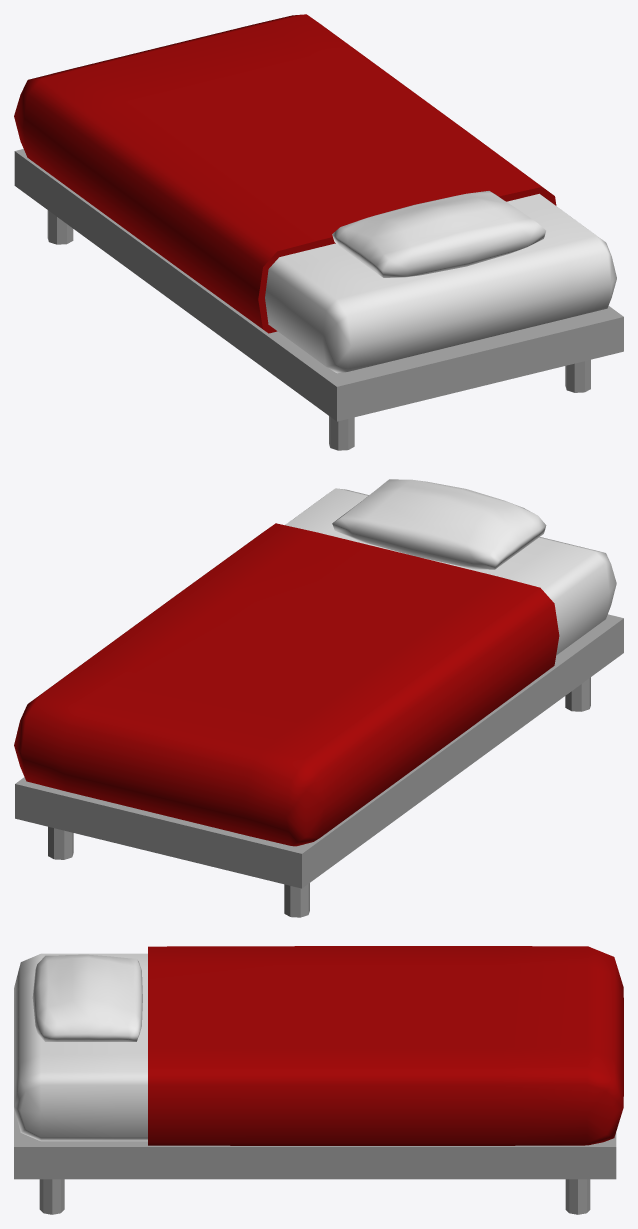
Rendered from bed.fbx.
The picture shows the model from 3 angles, top to bottom: view 1: azimuth 30°, elevation 25°; view 2: azimuth 150°, elevation 25°; view 3: azimuth 270°, elevation 25°; orthographic projection. The views are drawn at different scales.
Parts seen in each view (by area): view 1: quilt, mattress, bed_frame, pillow; view 2: quilt, bed_frame, pillow, mattress; view 3: quilt, bed_frame, mattress, pillow.
Part boxes in pixels (x1,y1,x2,y2): quilt: [14, 14, 556, 333]; mattress: [265, 193, 616, 373]; bed_frame: [14, 149, 623, 450]; pillow: [332, 191, 545, 277]; quilt: [14, 523, 559, 846]; bed_frame: [15, 614, 623, 917]; pillow: [332, 479, 546, 569]; mattress: [285, 488, 616, 654]; quilt: [148, 946, 623, 1145]; bed_frame: [14, 1107, 616, 1214]; mattress: [14, 953, 147, 1141]; pillow: [32, 954, 142, 1041].
Size of the model in its own units: 4.24 by 2.6 by 7.96.
